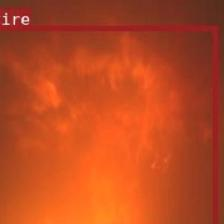fire: (0, 25, 217, 224)
